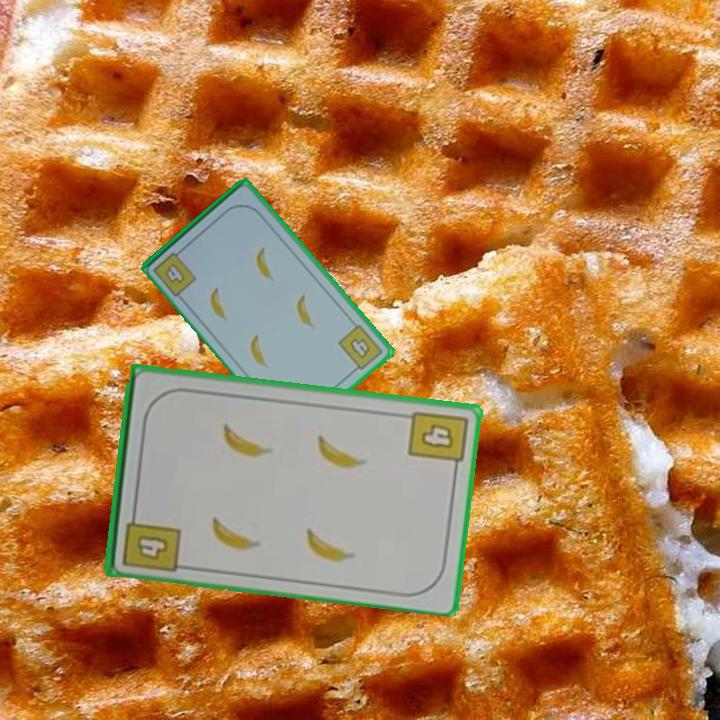4b: (404, 406, 470, 476), (118, 505, 183, 575), (334, 320, 386, 376), (149, 244, 200, 299)
